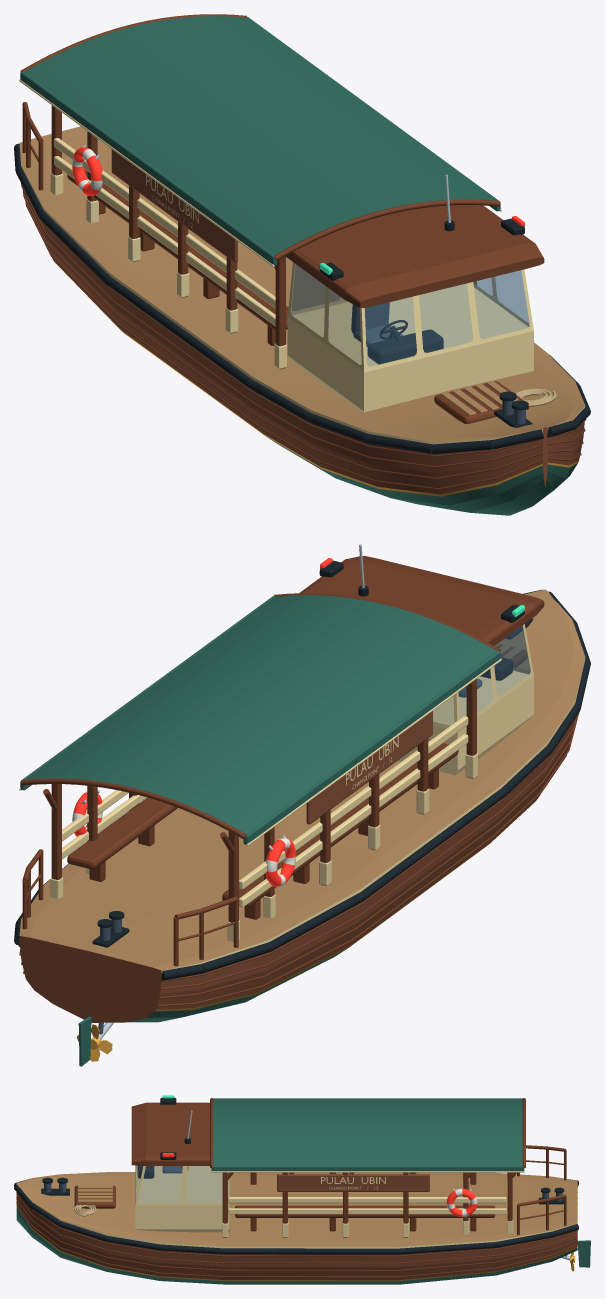
3 views of the same model, one above another, from view 1: azimuth 30°, elevation 25°; view 2: azimuth 150°, elevation 25°; view 3: azimuth 270°, elevation 25° (orthographic). The views are drawn at different scales.
Visible parts, largest first — view 1: Ubin Island Bumboat; view 2: Ubin Island Bumboat; view 3: Ubin Island Bumboat.
Part boxes in pixels (box(x1,y1,x2,y2)): Ubin Island Bumboat: box(14, 14, 590, 515); Ubin Island Bumboat: box(14, 544, 590, 1066); Ubin Island Bumboat: box(14, 1095, 590, 1284).
Bounding box in the file's own units: 3.33 × 3.44 × 10.35.
